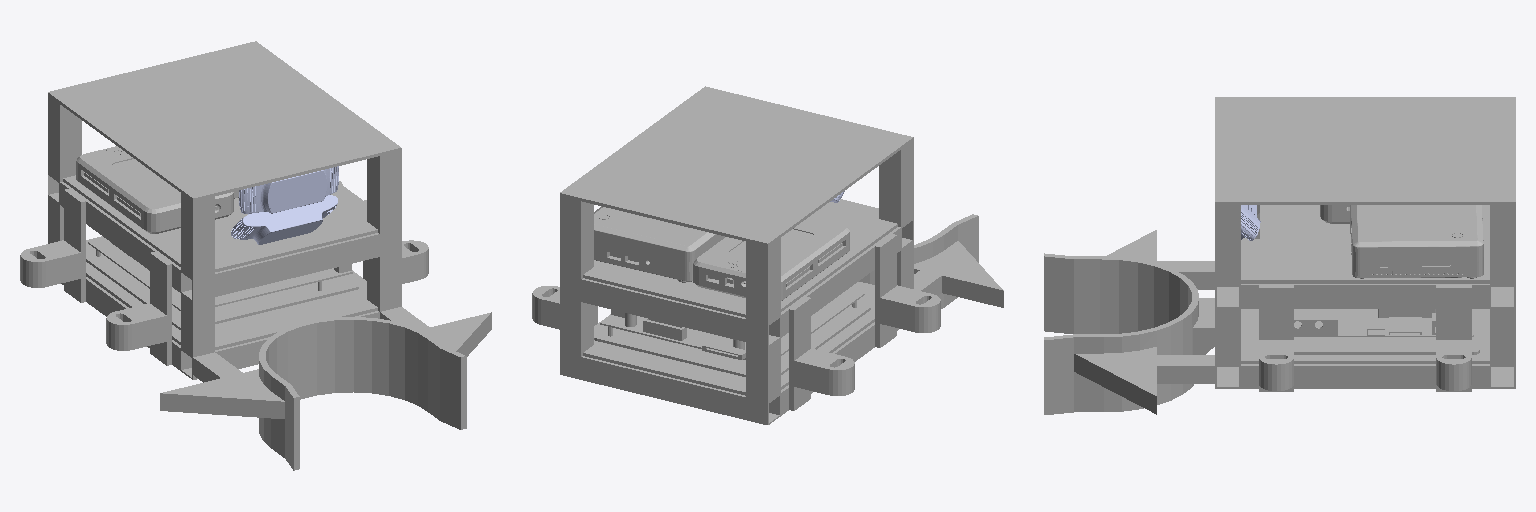
URDF robot description (lide):
<?xml version="1.0" encoding="utf-8"?>
<!-- This URDF was automatically created by SolidWorks to URDF Exporter! Originally created by [author] ([email redacted]) 
     Commit Version: 1.5.1-0-g916b5db  Build Version: 1.5.7152.31018
     For more information, please see http://wiki.ros.org/sw_urdf_exporter -->
<robot
  name="lide">
  <link
    name="base_link">
    <inertial>
      <origin
        xyz="0.10683 0.069801 -0.11719"
        rpy="0 0 0" />
      <mass
        value="3.0098" />
      <inertia
        ixx="0.005814"
        ixy="-4.291E-07"
        ixz="-4.3391E-07"
        iyy="0.011765"
        iyz="7.9314E-06"
        izz="0.0067269" />
    </inertial>
    <visual>
      <origin
        xyz="0 0 0"
        rpy="0 0 0" />
      <geometry>
        <mesh
          filename="package://lide/meshes/base_link.STL" />
      </geometry>
      <material
        name="">
        <color
          rgba="0.75294 0.75294 0.75294 1" />
      </material>
    </visual>
    <collision>
      <origin
        xyz="0 0 0"
        rpy="0 0 0" />
      <geometry>
        <mesh
          filename="package://lide/meshes/base_link.STL" />
      </geometry>
    </collision>
  </link>
  <link
    name="LFS">
    <inertial>
      <origin
        xyz="0.04556 0.0083094 0.0029762"
        rpy="0 0 0" />
      <mass
        value="0.072793" />
      <inertia
        ixx="2.2093E-05"
        ixy="-1.6485E-08"
        ixz="-1.5645E-07"
        iyy="1.6263E-05"
        iyz="2.9641E-09"
        izz="1.8084E-05" />
    </inertial>
    <visual>
      <origin
        xyz="0 0 0"
        rpy="0 0 0" />
      <geometry>
        <mesh
          filename="package://lide/meshes/LFS.STL" />
      </geometry>
      <material
        name="">
        <color
          rgba="0.75294 0.75294 0.75294 1" />
      </material>
    </visual>
    <collision>
      <origin
        xyz="0 0 0"
        rpy="0 0 0" />
      <geometry>
        <mesh
          filename="package://lide/meshes/LFS.STL" />
      </geometry>
    </collision>
  </link>
  <joint
    name="LFS"
    type="fixed">
    <origin
      xyz="0.20441 0.054044 -0.014503"
      rpy="1.5708 0 0" />
    <parent
      link="base_link" />
    <child
      link="LFS" />
    <axis
      xyz="0 0 0" />
  </joint>
  <link
    name="LFW">
    <inertial>
      <origin
        xyz="0.015 0 3.4694E-18"
        rpy="0 0 0" />
      <mass
        value="0.76708" />
      <inertia
        ixx="0.0011643"
        ixy="4.4576E-22"
        ixz="-1.8299E-20"
        iyy="0.00063966"
        iyz="-1.3553E-20"
        izz="0.00063966" />
    </inertial>
    <visual>
      <origin
        xyz="0 0 0"
        rpy="0 0 0" />
      <geometry>
        <mesh
          filename="package://lide/meshes/LFW.STL" />
      </geometry>
      <material
        name="">
        <color
          rgba="0.89804 0.91765 0.92941 1" />
      </material>
    </visual>
    <collision>
      <origin
        xyz="0 0 0"
        rpy="0 0 0" />
      <geometry>
        <mesh
          filename="package://lide/meshes/LFW.STL" />
      </geometry>
    </collision>
  </link>
  <joint
    name="LFW"
    type="continuous">
    <origin
      xyz="0.063346 -0.006798 0.015044"
      rpy="-1.6264 0 0" />
    <parent
      link="LFS" />
    <child
      link="LFW" />
    <axis
      xyz="1 0 0" />
    <limit
      effort="3.1"
      velocity="7" />
  </joint>
  <link
    name="RFS">
    <inertial>
      <origin
        xyz="-0.019183 -0.0090093 0.052006"
        rpy="0 0 0" />
      <mass
        value="0.072793" />
      <inertia
        ixx="2.2093E-05"
        ixy="-1.6485E-08"
        ixz="1.5645E-07"
        iyy="1.6263E-05"
        iyz="-2.9641E-09"
        izz="1.8084E-05" />
    </inertial>
    <visual>
      <origin
        xyz="0 0 0"
        rpy="0 0 0" />
      <geometry>
        <mesh
          filename="package://lide/meshes/RFS.STL" />
      </geometry>
      <material
        name="">
        <color
          rgba="0.75294 0.75294 0.75294 1" />
      </material>
    </visual>
    <collision>
      <origin
        xyz="0 0 0"
        rpy="0 0 0" />
      <geometry>
        <mesh
          filename="package://lide/meshes/RFS.STL" />
      </geometry>
    </collision>
  </link>
  <joint
    name="RFS"
    type="fixed">
    <origin
      xyz="-0.020784 0.10307 0.0027844"
      rpy="1.5708 0 0" />
    <parent
      link="base_link" />
    <child
      link="RFS" />
    <axis
      xyz="0 0 0" />
  </joint>
  <link
    name="RFW">
    <inertial>
      <origin
        xyz="-0.015 0 0"
        rpy="0 0 0" />
      <mass
        value="0.76708" />
      <inertia
        ixx="0.0011643"
        ixy="-1.2315E-36"
        ixz="4.6064E-39"
        iyy="0.00063966"
        iyz="8.0046E-39"
        izz="0.00063966" />
    </inertial>
    <visual>
      <origin
        xyz="0 0 0"
        rpy="0 0 0" />
      <geometry>
        <mesh
          filename="package://lide/meshes/RFW.STL" />
      </geometry>
      <material
        name="">
        <color
          rgba="0.89804 0.91765 0.92941 1" />
      </material>
    </visual>
    <collision>
      <origin
        xyz="0 0 0"
        rpy="0 0 0" />
      <geometry>
        <mesh
          filename="package://lide/meshes/RFW.STL" />
      </geometry>
    </collision>
  </link>
  <joint
    name="RFW"
    type="continuous">
    <origin
      xyz="-0.036969 -0.024084 0.064073"
      rpy="0 0 0" />
    <parent
      link="RFS" />
    <child
      link="RFW" />
    <axis
      xyz="1 0 0" />
    <limit
      effort="3.1"
      velocity="7" />
  </joint>
  <link
    name="RBS">
    <inertial>
      <origin
        xyz="0 -0.045029 0"
        rpy="0 0 0" />
      <mass
        value="0.44204" />
      <inertia
        ixx="0.00028466"
        ixy="5.4176E-23"
        ixz="-7.0058E-22"
        iyy="0.00017531"
        iyz="1.4835E-21"
        izz="0.0002841" />
    </inertial>
    <visual>
      <origin
        xyz="0 0 0"
        rpy="0 0 0" />
      <geometry>
        <mesh
          filename="package://lide/meshes/RBS.STL" />
      </geometry>
      <material
        name="">
        <color
          rgba="0.89804 0.91765 0.92941 1" />
      </material>
    </visual>
    <collision>
      <origin
        xyz="0 0 0"
        rpy="0 0 0" />
      <geometry>
        <mesh
          filename="package://lide/meshes/RBS.STL" />
      </geometry>
    </collision>
  </link>
  <joint
    name="RBS"
    type="fixed">
    <origin
      xyz="0.25 0.202 0.0087742"
      rpy="1.5708 0 0" />
    <parent
      link="base_link" />
    <child
      link="RBS" />
    <axis
      xyz="0 0 0" />
  </joint>
  <link
    name="LBS">
    <inertial>
      <origin
        xyz="0 -0.045029 -2.7756E-17"
        rpy="0 0 0" />
      <mass
        value="0.44204" />
      <inertia
        ixx="0.00028466"
        ixy="-1.2721E-21"
        ixz="-4.8787E-23"
        iyy="0.00017531"
        iyz="1.7054E-21"
        izz="0.0002841" />
    </inertial>
    <visual>
      <origin
        xyz="0 0 0"
        rpy="0 0 0" />
      <geometry>
        <mesh
          filename="package://lide/meshes/LBS.STL" />
      </geometry>
      <material
        name="">
        <color
          rgba="0.89804 0.91765 0.92941 1" />
      </material>
    </visual>
    <collision>
      <origin
        xyz="0 0 0"
        rpy="0 0 0" />
      <geometry>
        <mesh
          filename="package://lide/meshes/LBS.STL" />
      </geometry>
    </collision>
  </link>
  <joint
    name="LBS"
    type="fixed">
    <origin
      xyz="-0.040003 0.202 0.0087742"
      rpy="1.5708 0 0" />
    <parent
      link="base_link" />
    <child
      link="LBS" />
    <axis
      xyz="0 0 0" />
  </joint>
  <link
    name="fcam">
    <inertial>
      <origin
        xyz="0.00044553 -1.1063E-05 0.0012982"
        rpy="0 0 0" />
      <mass
        value="0.043612" />
      <inertia
        ixx="2.3571E-05"
        ixy="-1.0181E-09"
        ixz="2.1758E-08"
        iyy="4.2948E-06"
        iyz="-8.8579E-10"
        izz="2.2106E-05" />
    </inertial>
    <visual>
      <origin
        xyz="0 0 0"
        rpy="0 0 0" />
      <geometry>
        <mesh
          filename="package://lide/meshes/fcam.STL" />
      </geometry>
      <material
        name="">
        <color
          rgba="0.79216 0.81961 0.93333 1" />
      </material>
    </visual>
    <collision>
      <origin
        xyz="0 0 0"
        rpy="0 0 0" />
      <geometry>
        <mesh
          filename="package://lide/meshes/fcam.STL" />
      </geometry>
    </collision>
  </link>
  <joint
    name="fcam"
    type="fixed">
    <origin
      xyz="0.10501 0.012 0.15699"
      rpy="0 0 -1.5708" />
    <parent
      link="base_link" />
    <child
      link="fcam" />
    <axis
      xyz="0 0 0" />
  </joint>
  <link
    name="bcam">
    <inertial>
      <origin
        xyz="0.00044553 -1.1063E-05 0.0012982"
        rpy="0 0 0" />
      <mass
        value="0.043612" />
      <inertia
        ixx="2.3571E-05"
        ixy="-1.0183E-09"
        ixz="2.1758E-08"
        iyy="4.2948E-06"
        iyz="-8.8548E-10"
        izz="2.2106E-05" />
    </inertial>
    <visual>
      <origin
        xyz="0 0 0"
        rpy="0 0 0" />
      <geometry>
        <mesh
          filename="package://lide/meshes/bcam.STL" />
      </geometry>
      <material
        name="">
        <color
          rgba="0.79216 0.81961 0.93333 1" />
      </material>
    </visual>
    <collision>
      <origin
        xyz="0 0 0"
        rpy="0 0 0" />
      <geometry>
        <mesh
          filename="package://lide/meshes/bcam.STL" />
      </geometry>
    </collision>
  </link>
  <joint
    name="bcam"
    type="fixed">
    <origin
      xyz="0.10501 0.020581 0.12171"
      rpy="0 0.7854 -1.5708" />
    <parent
      link="base_link" />
    <child
      link="bcam" />
    <axis
      xyz="0 0 0" />
  </joint>
  <link
    name="Lidar">
    <inertial>
      <origin
        xyz="0.013523 0.00046196 -0.028765"
        rpy="0 0 0" />
      <mass
        value="0.073085" />
      <inertia
        ixx="1.9581E-05"
        ixy="-1.0393E-07"
        ixz="-4.2839E-07"
        iyy="2.4125E-05"
        iyz="9.4271E-09"
        izz="4.1418E-05" />
    </inertial>
    <visual>
      <origin
        xyz="0 0 0"
        rpy="0 0 0" />
      <geometry>
        <mesh
          filename="package://lide/meshes/Lidar.STL" />
      </geometry>
      <material
        name="">
        <color
          rgba="0.79216 0.81961 0.93333 1" />
      </material>
    </visual>
    <collision>
      <origin
        xyz="0 0 0"
        rpy="0 0 0" />
      <geometry>
        <mesh
          filename="package://lide/meshes/Lidar.STL" />
      </geometry>
    </collision>
  </link>
  <joint
    name="Lidar"
    type="fixed">
    <origin
      xyz="0.10401 0.19458 0.2285"
      rpy="0 0 -1.5708" />
    <parent
      link="base_link" />
    <child
      link="Lidar" />
    <axis
      xyz="0 0 0" />
  </joint>
  <link
    name="imu_link">
    <inertial>
      <origin
        xyz="0 0 0"
        rpy="0 0 0" />
      <mass
        value="0" />
      <inertia
        ixx="0"
        ixy="0"
        ixz="0"
        iyy="0"
        iyz="0"
        izz="0" />
    </inertial>
    <visual>
      <origin
        xyz="0 0 0"
        rpy="0 0 0" />
      <geometry>
        <mesh
          filename="package://lide/meshes/imu_link.STL" />
      </geometry>
      <material
        name="">
        <color
          rgba="1 1 1 1" />
      </material>
    </visual>
    <collision>
      <origin
        xyz="0 0 0"
        rpy="0 0 0" />
      <geometry>
        <mesh
          filename="package://lide/meshes/imu_link.STL" />
      </geometry>
    </collision>
  </link>
  <joint
    name="imu_link"
    type="fixed">
    <origin
      xyz="0.105 0.039 0.177"
      rpy="0 0 -1.5708" />
    <parent
      link="base_link" />
    <child
      link="imu_link" />
    <axis
      xyz="0 0 0" />
  </joint>
</robot>

--- Render facts (derived) ---
3 views of the same robot in one strip: view 1: azimuth 30°, elevation 25°; view 2: azimuth 150°, elevation 25°; view 3: azimuth 270°, elevation 25° (orthographic).
Robot: lide — 11 links, 10 joints (2 continuous, 8 fixed); root link base_link; default pose: every joint at zero.
Visible links, largest first — view 1: base_link, fcam, bcam; view 2: base_link; view 3: base_link, bcam.
Boxes of the visible links, x1=… form: base_link: x1=20, y1=41, x2=491, y2=470; fcam: x1=239, y1=166, x2=338, y2=213; bcam: x1=231, y1=195, x2=337, y2=244; base_link: x1=532, y1=86, x2=1003, y2=424; base_link: x1=1044, y1=97, x2=1515, y2=414; bcam: x1=1241, y1=205, x2=1260, y2=240.
Bounding box of the posed robot: 0.334 × 0.3983 × 0.208 m (x, y, z).
3 mesh visuals loaded from 11 distinct referenced files (3 binary STL); not drawn: 8 (reference not matched to a file when rendering).